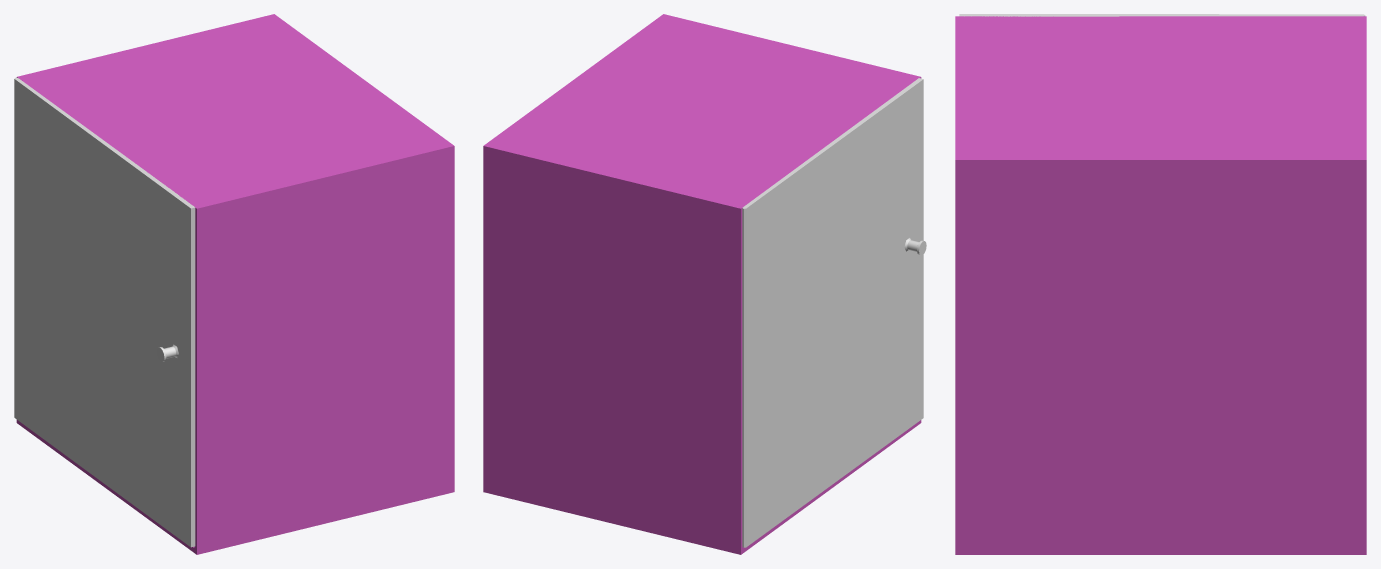
The model's file is SM_NightStand.fbx.
3 renders of one model, left to right at view 1: azimuth 30°, elevation 25°; view 2: azimuth 150°, elevation 25°; view 3: azimuth 270°, elevation 25°, orthographic. The views are drawn at different scales.
Visible parts, largest first — view 1: NightStand, NightStandDrawer; view 2: NightStand, NightStandDrawer; view 3: NightStand, NightStandDrawer.
Part boxes in pixels (<box>): NightStand: <box>16,14,454,554</box>; NightStandDrawer: <box>14,77,195,547</box>; NightStand: <box>483,14,921,554</box>; NightStandDrawer: <box>742,78,926,547</box>; NightStand: <box>955,16,1366,554</box>; NightStandDrawer: <box>959,14,1365,16</box>.
Bounding box in the file's own units: 59.21 × 70.8 × 66.8.
